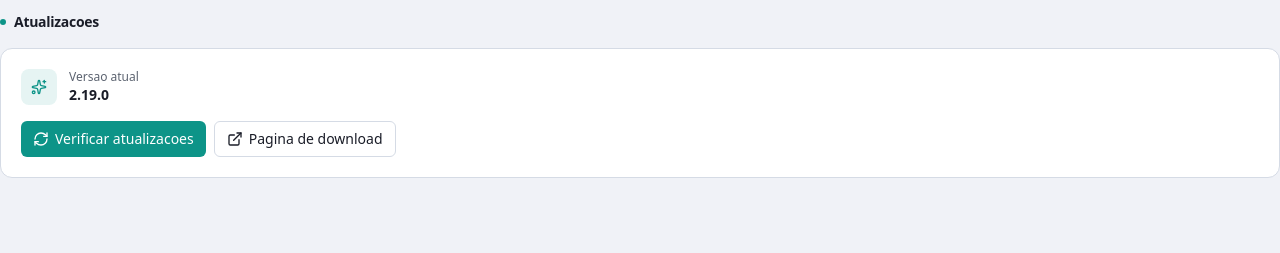
UpdatesSection — verificação › cai em "sem atualização" quando a verificação falha fora do build empacotado
Click the button "Verificar atualizacoes": (113, 139) [21,121,206,157]
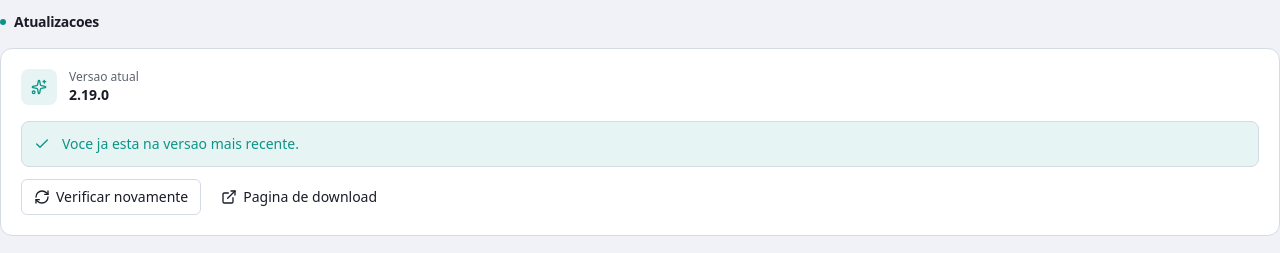
Expected: the message reads "Voce ja esta na versao mais recente.", [62,134,299,153]
